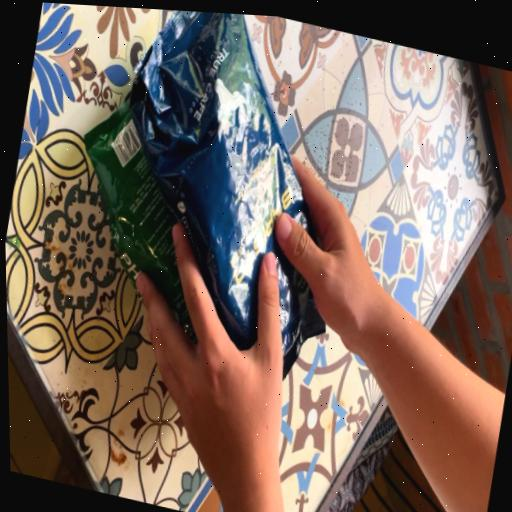cafe_hat: (128, 10, 324, 378)
cafe_xay: (84, 100, 193, 338)
